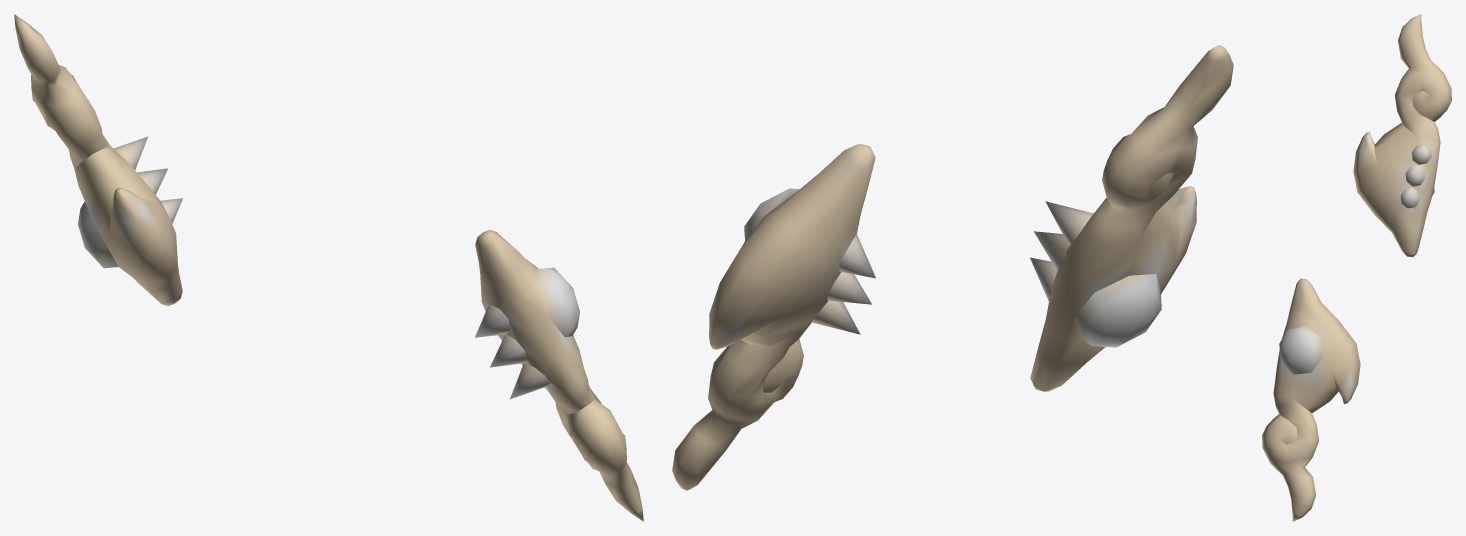
File: S12_Bug04_L2_Horn.glb
3 renders of one model, left to right at view 1: azimuth 30°, elevation 25°; view 2: azimuth 150°, elevation 25°; view 3: azimuth 270°, elevation 25°, orthographic. The views are drawn at different scales.
Visible parts, largest first — view 1: S12_Bug04_L2_Horn__Horn_L__surface0__lod0, S12_Bug04_L2_Horn__Horn_R__surface1__lod0; view 2: S12_Bug04_L2_Horn__Horn_L__surface0__lod0, S12_Bug04_L2_Horn__Horn_R__surface1__lod0; view 3: S12_Bug04_L2_Horn__Horn_L__surface0__lod0, S12_Bug04_L2_Horn__Horn_R__surface1__lod0.
Boxes of the visible parts, bbox=[...] form: S12_Bug04_L2_Horn__Horn_L__surface0__lod0: bbox=[14, 14, 182, 306]; S12_Bug04_L2_Horn__Horn_R__surface1__lod0: bbox=[475, 229, 643, 521]; S12_Bug04_L2_Horn__Horn_L__surface0__lod0: bbox=[1030, 45, 1233, 391]; S12_Bug04_L2_Horn__Horn_R__surface1__lod0: bbox=[672, 144, 875, 490]; S12_Bug04_L2_Horn__Horn_L__surface0__lod0: bbox=[1353, 14, 1451, 257]; S12_Bug04_L2_Horn__Horn_R__surface1__lod0: bbox=[1262, 278, 1360, 521].
Size of the model in its own units: 99.92 by 101 by 49.7.
